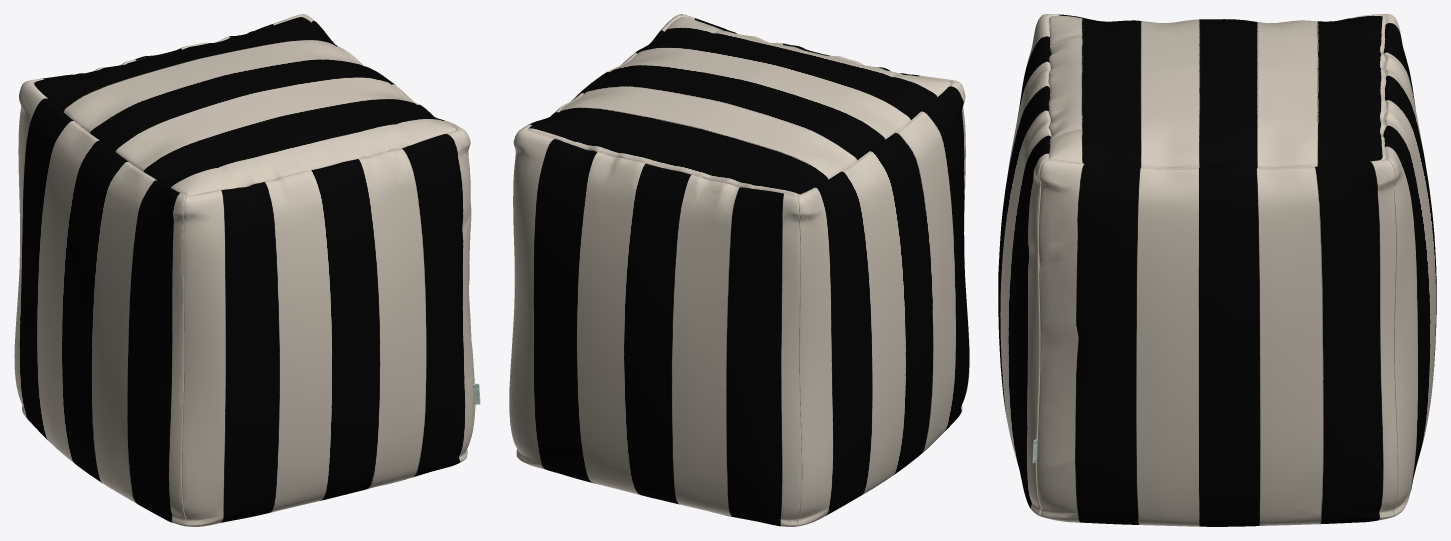
The model's file is BKWT1443.obj.
3 renders of one model, left to right at view 1: azimuth 30°, elevation 25°; view 2: azimuth 150°, elevation 25°; view 3: azimuth 270°, elevation 25°, orthographic. The views are drawn at different scales.
Parts seen in each view (by area): view 1: not_clear_obj_1_v6; view 2: not_clear_obj_1_v6; view 3: not_clear_obj_1_v6.
Boxes of the visible parts, left/top/right/bottom form: not_clear_obj_1_v6: left=14, top=14, right=475, bottom=526; not_clear_obj_1_v6: left=509, top=14, right=969, bottom=526; not_clear_obj_1_v6: left=998, top=14, right=1436, bottom=526.
Size of what is drawn, in the model's own units: 43.19 by 42.7 by 43.19.
